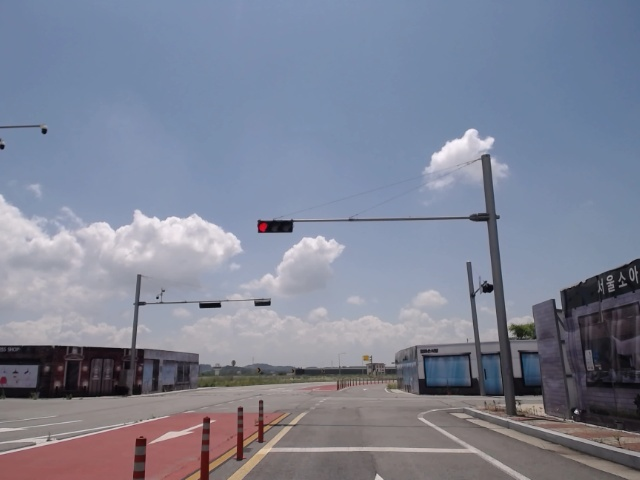red_3: (257, 219, 294, 234)
